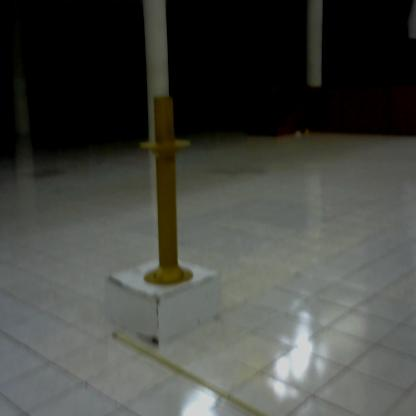pole: (134, 96, 207, 296)
